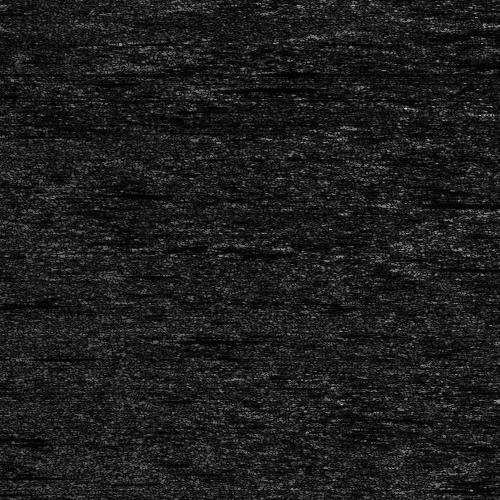object: (375, 200, 428, 205), (153, 336, 194, 341)
shadow: (402, 200, 500, 205), (174, 336, 262, 341)
